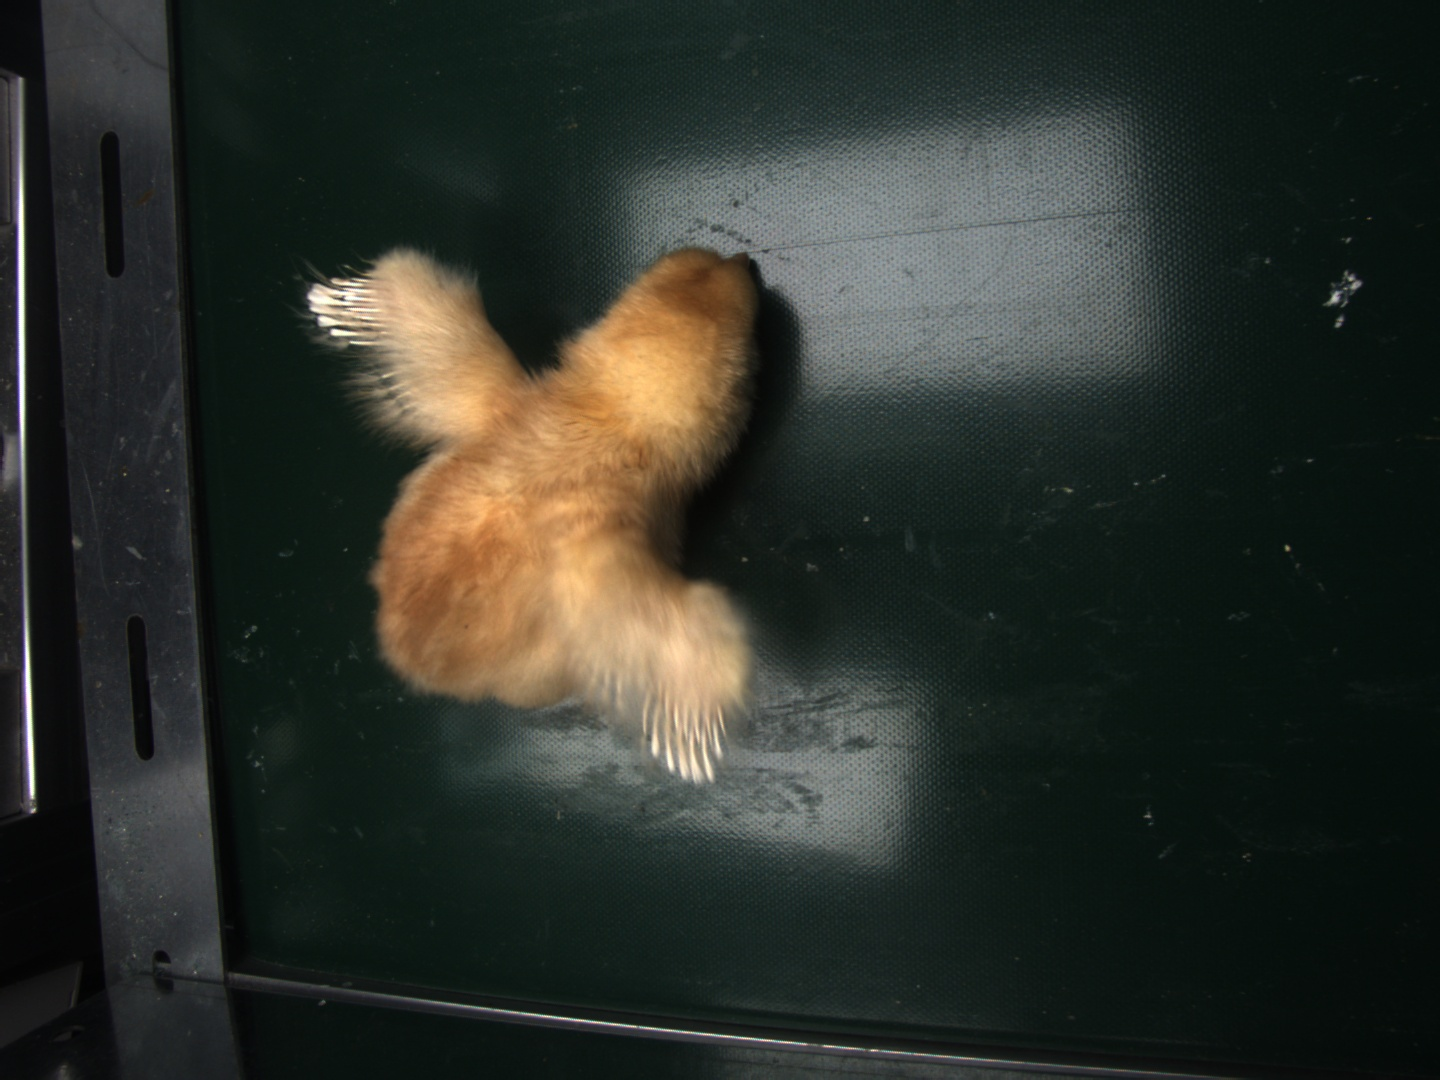female: (646, 692, 726, 787), (307, 271, 391, 341)
